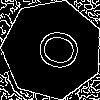O: (27, 24, 82, 74)
